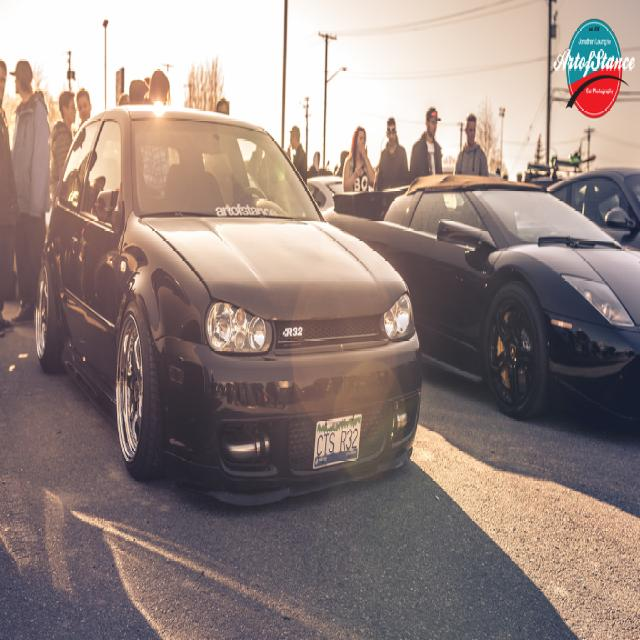car: (33, 102, 421, 506)
